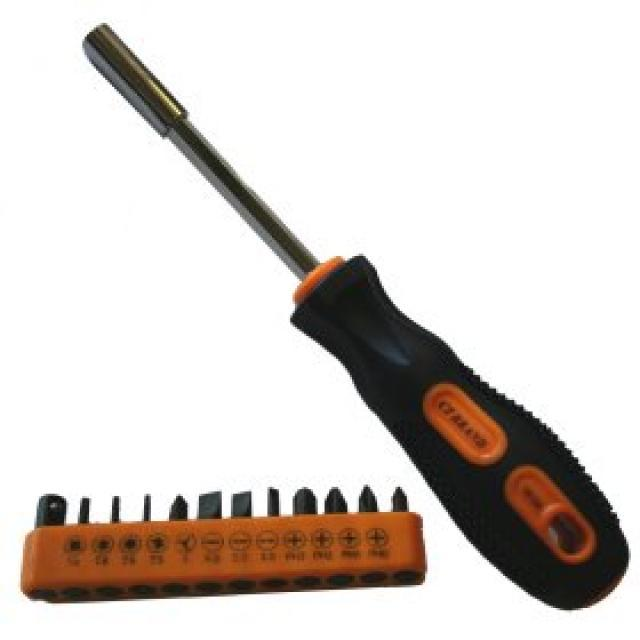screwdriver: (82, 10, 633, 612)
